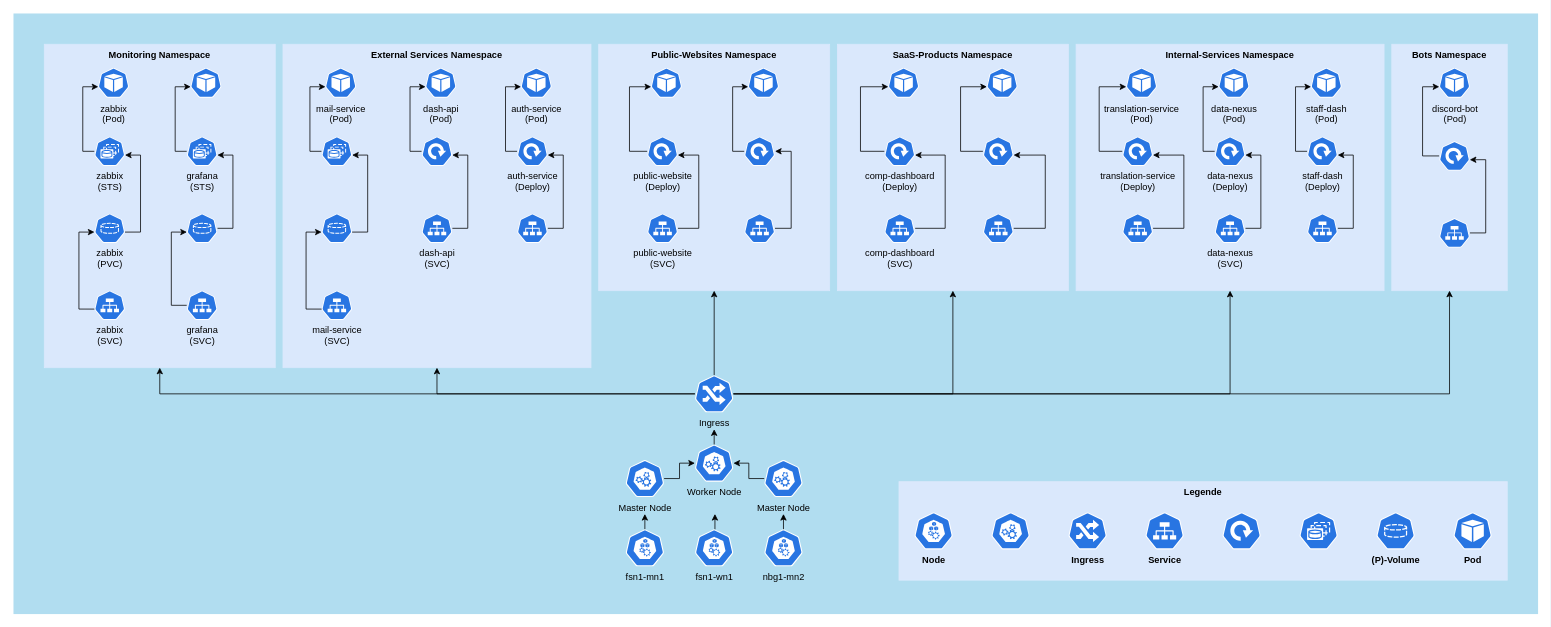
The diagram is 1551 pixels wide and 627 high, and some of its shapes have lost their labels. Each missing label, with the centre of its shape:
auth-service (SVC): pixel 532 228
comp-dashboard (Pod): pixel 903 82
dash-api (Deploy): pixel 436 151
Deploy: pixel 1241 530
discord-bot (Deploy): pixel 1454 156
discord-bot (SVC): pixel 1454 233
docs (Deploy): pixel 759 151
docs (Pod): pixel 763 82
docs (SVC): pixel 759 228
empl-dashboard (Deploy): pixel 998 151
empl-dashboard (Pod): pixel 1002 82
empl-dashboard (SVC): pixel 998 228
grafana (Pod): pixel 205 82
grafana (PVC): pixel 202 228
mail-service (PVC): pixel 336 228
mail-service (STS): pixel 336 151
Master: pixel 1010 530
public-website (Pod): pixel 666 82
staff-dash (SVC): pixel 1322 228
StatefulSet: pixel 1318 530
translation-service (SVC): pixel 1137 228
